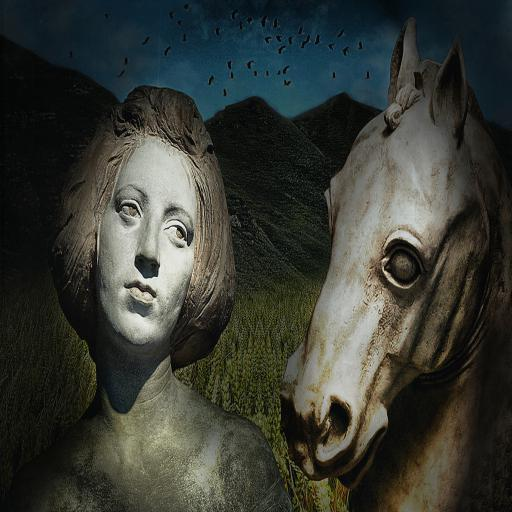horse: (279, 12, 512, 512)
